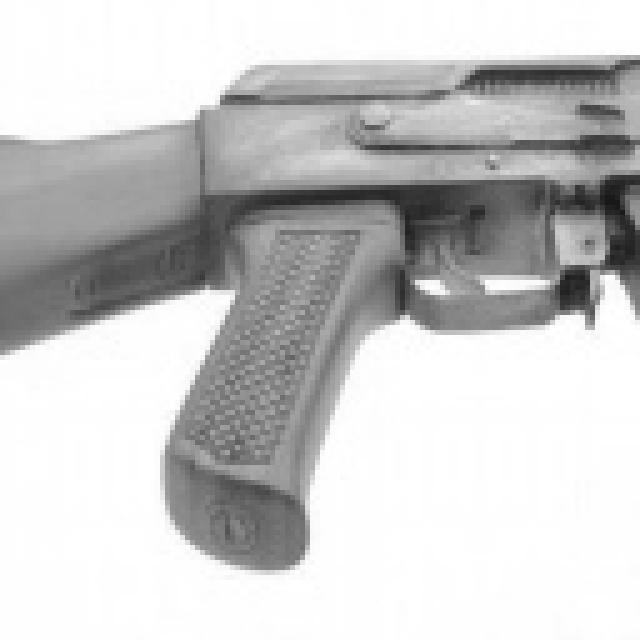Rifle: (10, 46, 640, 588)
